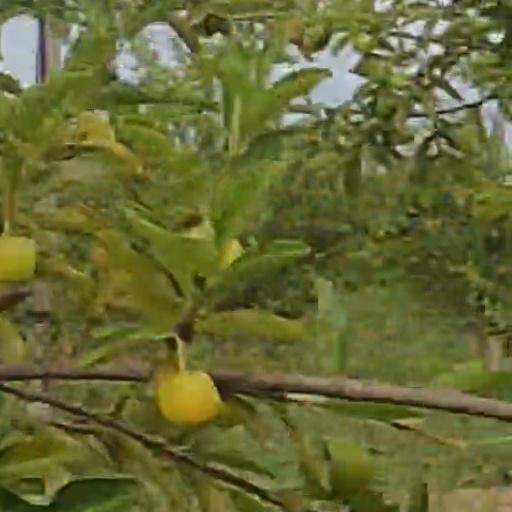acerola_verde: (162, 372, 221, 423), (1, 238, 36, 281)
